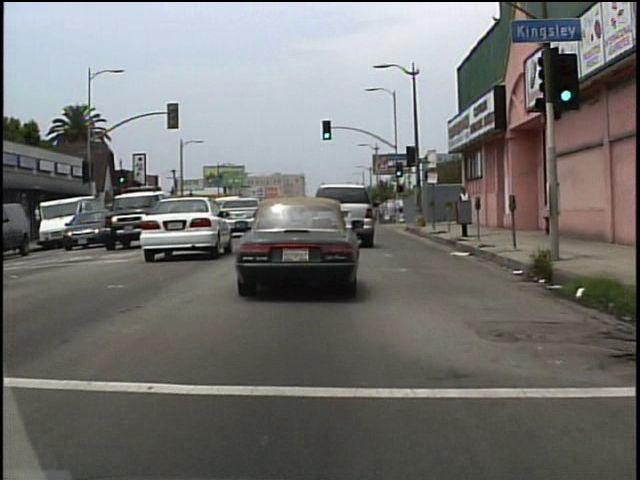person: (456, 184, 472, 229)
